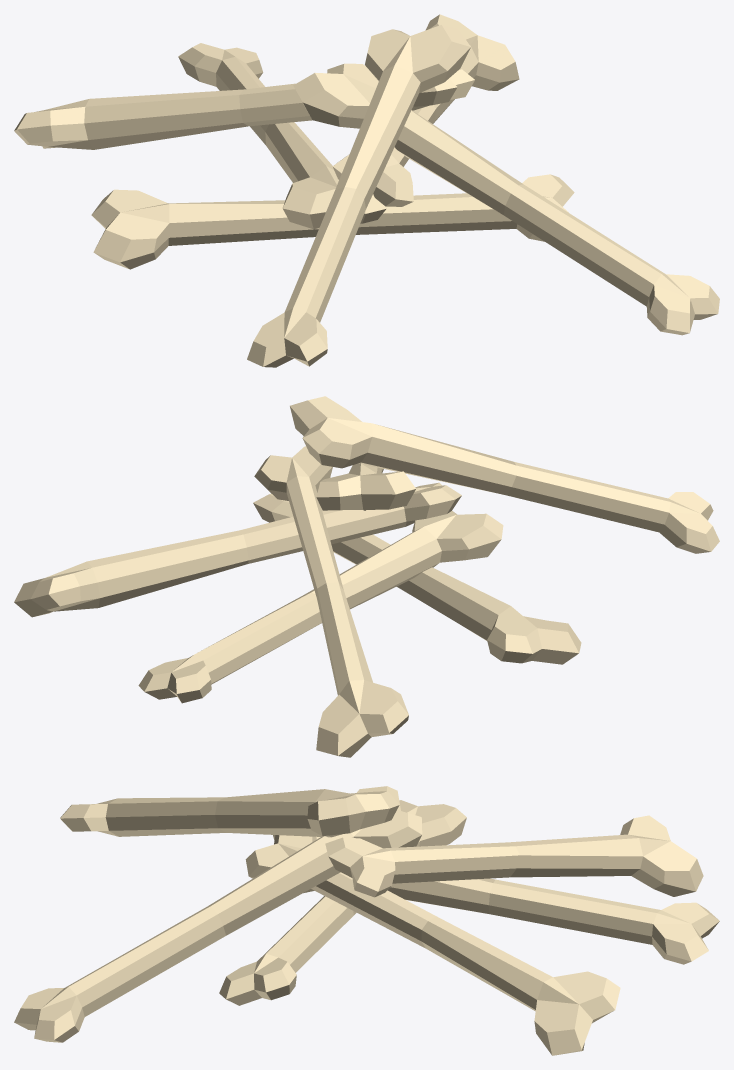
The model's file is Bones-obstacle Variation 3.fbx.
3 renders of one model, top to bottom at view 1: azimuth 30°, elevation 25°; view 2: azimuth 150°, elevation 25°; view 3: azimuth 270°, elevation 25°, orthographic. The views are drawn at different scales.
Visible parts, largest first — view 1: Plane.004; view 2: Plane.004; view 3: Plane.004.
Part boxes in pixels (x1=…): Plane.004: x1=14, y1=14, x2=719, y2=367; Plane.004: x1=14, y1=396, x2=719, y2=757; Plane.004: x1=14, y1=786, x2=719, y2=1055.
Size of the model in its own units: 1088 by 423 by 1371.
